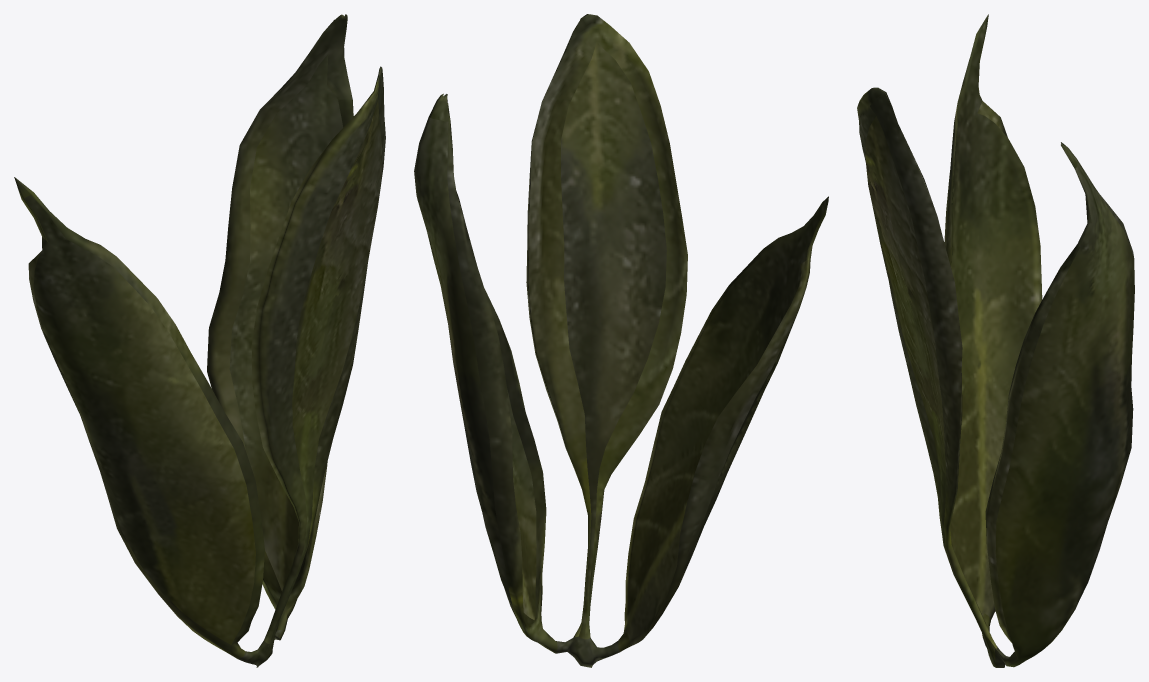
File: falldown1.fbx
3 views of the same model, side by side, from view 1: azimuth 30°, elevation 25°; view 2: azimuth 150°, elevation 25°; view 3: azimuth 270°, elevation 25° (orthographic). The views are drawn at different scales.
Visible parts, largest first — view 1: falldown1; view 2: falldown1; view 3: falldown1.
Part boxes in pixels (box(x1,y1,x2,y2)): falldown1: box(14, 14, 385, 667); falldown1: box(414, 14, 828, 667); falldown1: box(857, 14, 1134, 667).
Bounding box in the file's own units: 0.3472 × 0.5406 × 0.2232.
